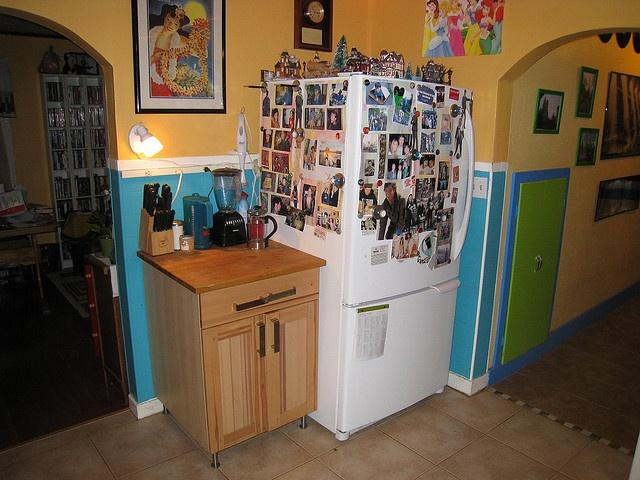Lemari: (196, 263, 320, 456)
